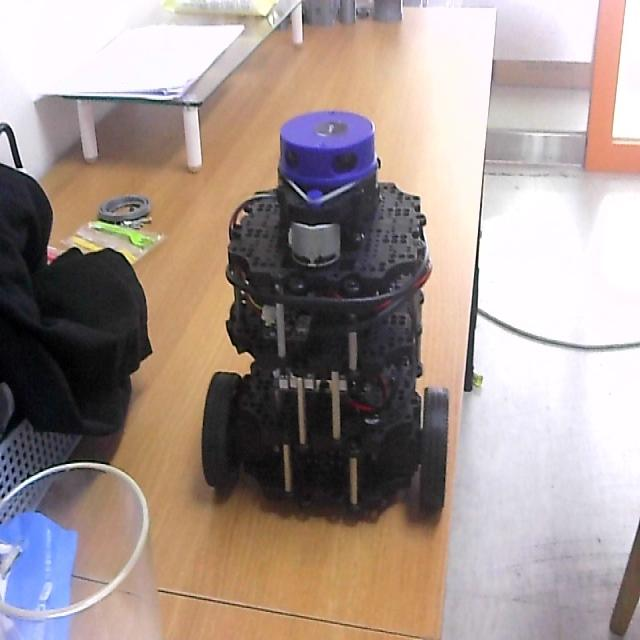turtle: (200, 109, 450, 524)
